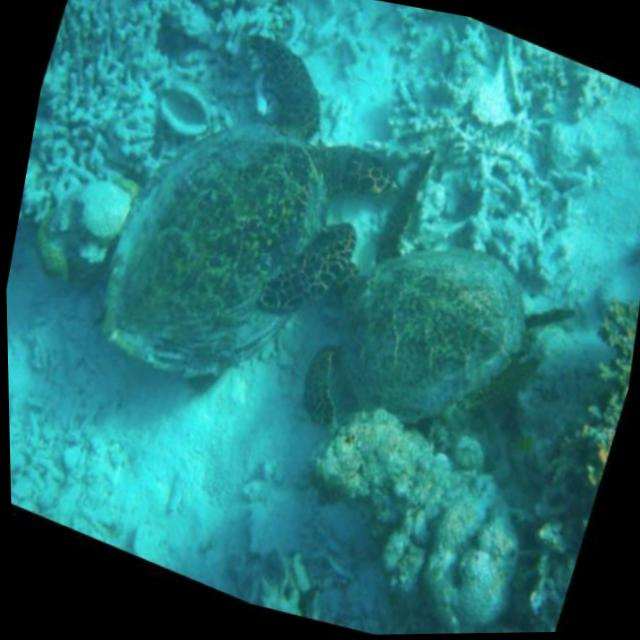Dead Coral: (51, 0, 626, 262), (243, 381, 568, 637)
